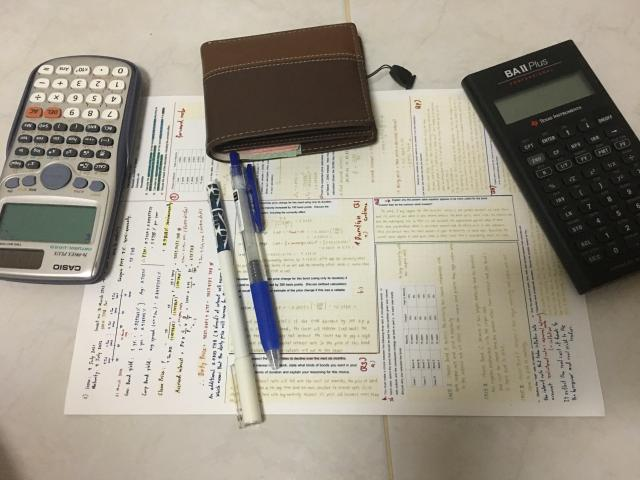Pen: (206, 182, 261, 428), (229, 151, 280, 369)
Wallet: (201, 24, 378, 162)
paper: (65, 85, 604, 420)
